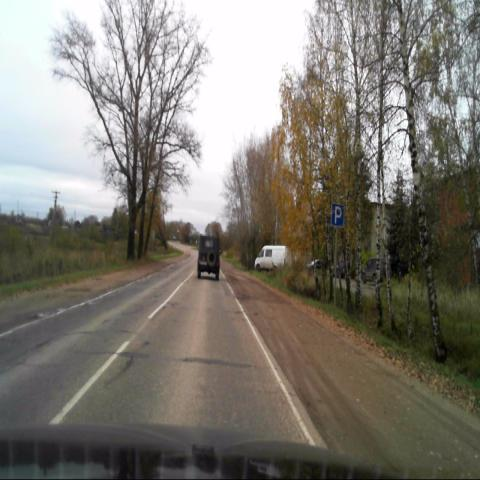6_4: (331, 203, 344, 226)
